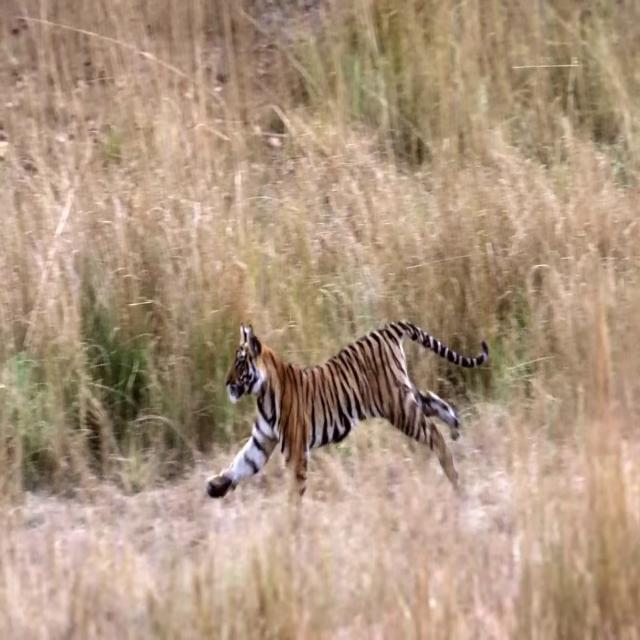tiger: (205, 320, 490, 500)
